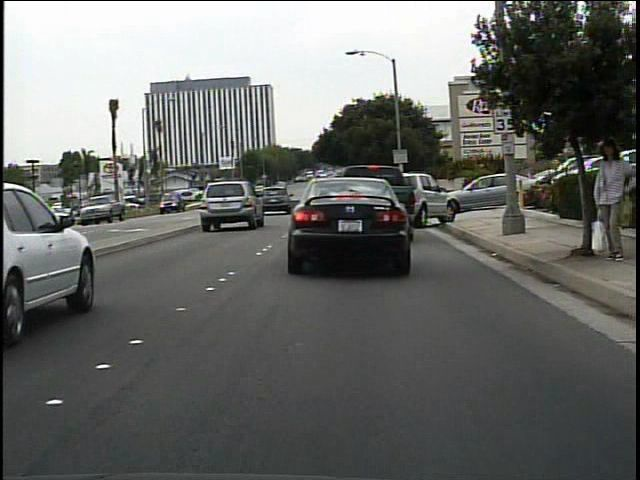person: (587, 136, 631, 264)
